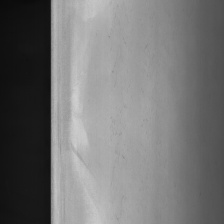silk_spot: (98, 4, 141, 224)
